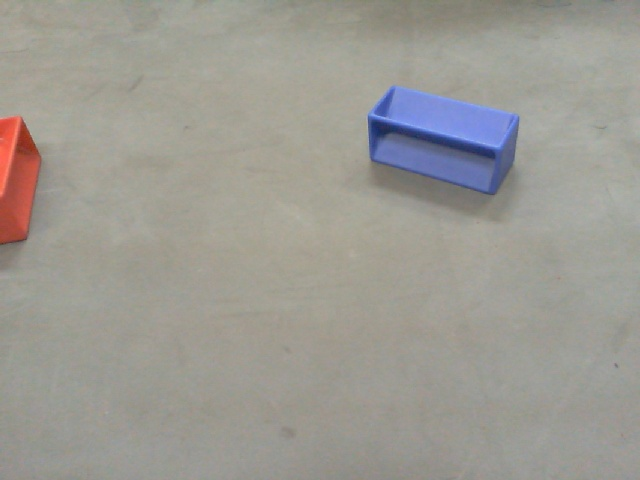BlueSample: (364, 81, 523, 206)
RedSample: (1, 109, 46, 245)
